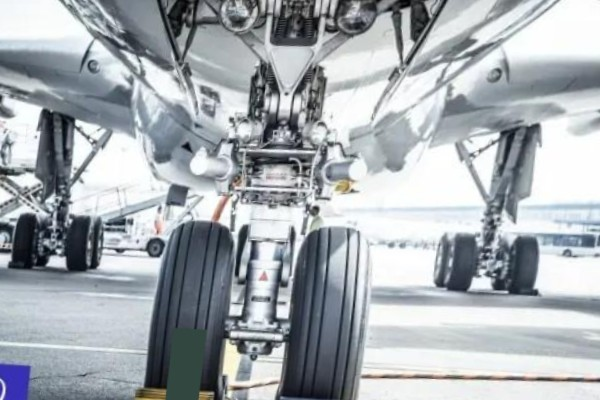chock: (127, 380, 218, 400), (506, 283, 543, 301), (6, 258, 34, 272)
wheel: (271, 220, 382, 400), (138, 215, 240, 400), (494, 231, 543, 297), (430, 228, 478, 292), (9, 209, 55, 271), (62, 211, 104, 273), (486, 235, 518, 292), (429, 231, 456, 287), (231, 221, 251, 282), (32, 214, 55, 267), (279, 223, 298, 283), (86, 216, 106, 269), (0, 220, 16, 254), (145, 236, 166, 258)
